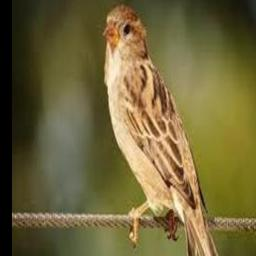Sparrow: (104, 4, 232, 256)
